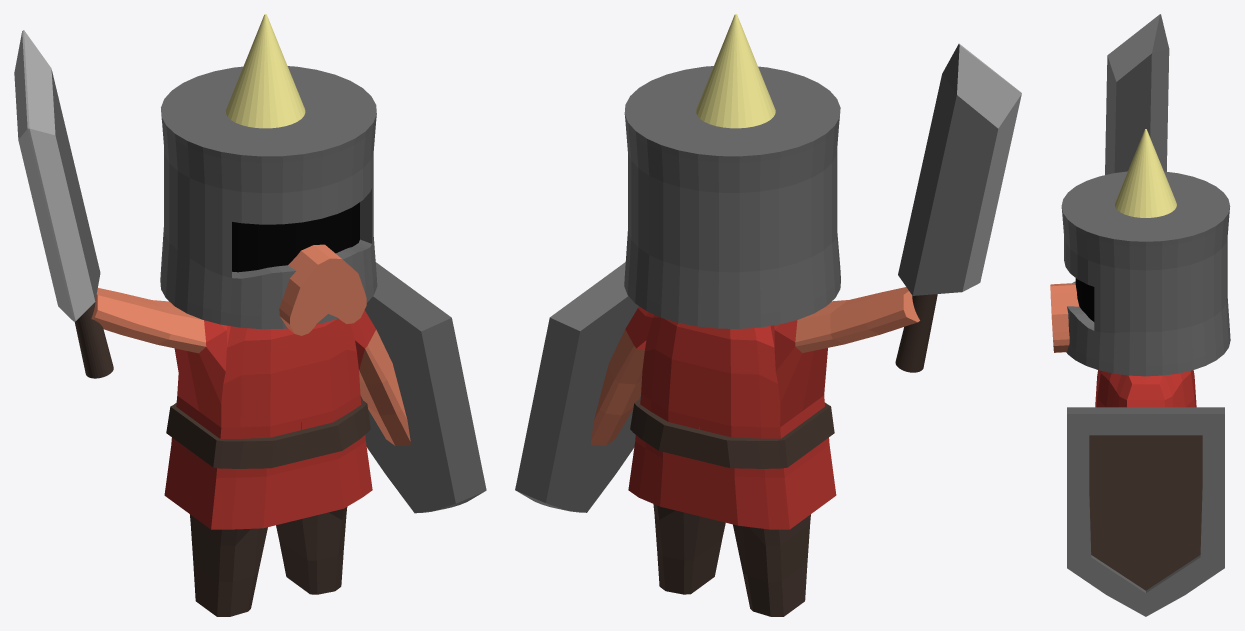
The model's file is Grunt 1.fbx.
The picture shows the model from 3 angles, left to right: view 1: azimuth 30°, elevation 25°; view 2: azimuth 150°, elevation 25°; view 3: azimuth 270°, elevation 25°; orthographic projection. The views are drawn at different scales.
Visible parts, largest first — view 1: Cube.009, Cylinder.009, Cube.017, Cylinder.011, Cube.012, Cylinder.013; view 2: Cube.009, Cylinder.009, Cylinder.011, Cube.017, Cylinder.013; view 3: Cube.017, Cylinder.009, Cylinder.011, Cube.009, Cylinder.013, Cube.012.
Boxes of the visible parts, x1=… form: Cube.009: x1=91, y1=288, x2=410, y2=616; Cylinder.009: x1=160, y1=66, x2=377, y2=329; Cube.017: x1=360, y1=262, x2=486, y2=513; Cylinder.011: x1=14, y1=30, x2=113, y2=378; Cube.012: x1=279, y1=244, x2=366, y2=335; Cylinder.013: x1=225, y1=14, x2=305, y2=128; Cube.009: x1=590, y1=287, x2=919, y2=616; Cylinder.009: x1=624, y1=66, x2=840, y2=328; Cylinder.011: x1=895, y1=43, x2=1021, y2=372; Cube.017: x1=515, y1=262, x2=640, y2=512; Cylinder.013: x1=696, y1=14, x2=775, y2=128; Cube.017: x1=1067, y1=407, x2=1224, y2=616; Cylinder.009: x1=1061, y1=171, x2=1230, y2=376; Cylinder.011: x1=1105, y1=14, x2=1169, y2=174; Cube.009: x1=1095, y1=370, x2=1196, y2=407; Cylinder.013: x1=1115, y1=129, x2=1176, y2=217; Cube.012: x1=1050, y1=283, x2=1079, y2=352.
Bounding box in the file's own units: 359 × 476 × 162.
